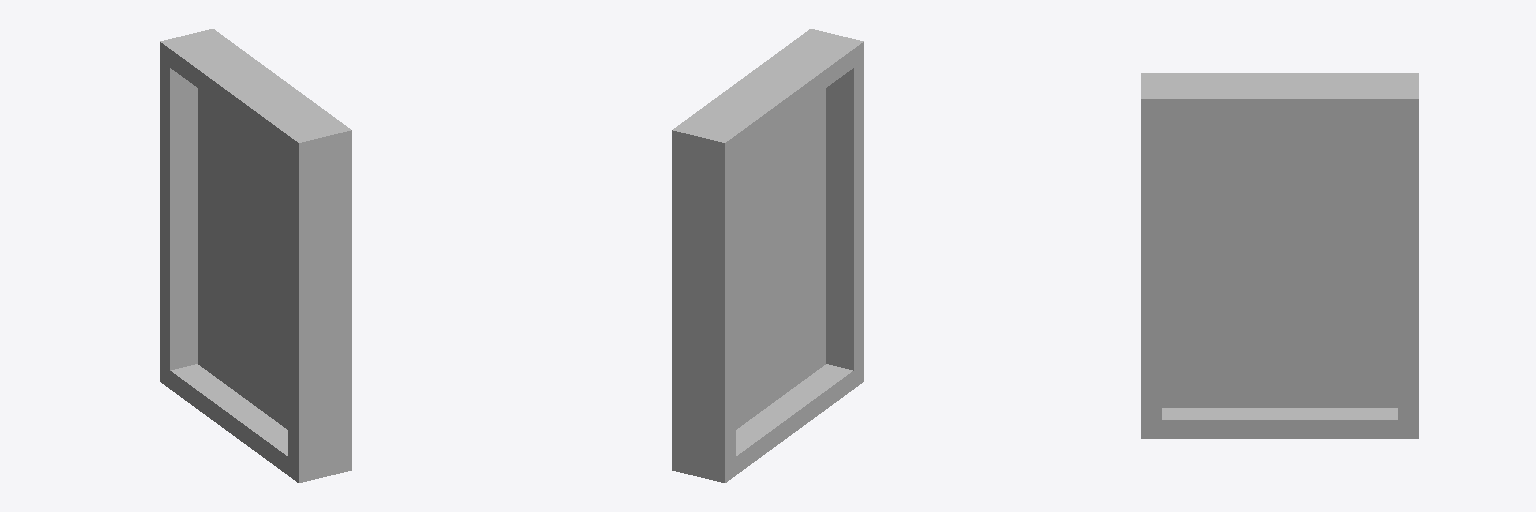
The model's file is pictureFrame.obj.
3 renders of one model, left to right at view 1: azimuth 30°, elevation 25°; view 2: azimuth 150°, elevation 25°; view 3: azimuth 270°, elevation 25°, orthographic.
Parts seen in each view (by area): view 1: Cube_Cube.001; view 2: Cube_Cube.001; view 3: Cube_Cube.001.
Part boxes in pixels (left/top/right/bottom): Cube_Cube.001: left=160, top=29, right=351, bottom=482; Cube_Cube.001: left=672, top=29, right=863, bottom=482; Cube_Cube.001: left=1141, top=73, right=1418, bottom=438.
Bounding box in the file's own units: 0.3275 × 2 × 1.48.